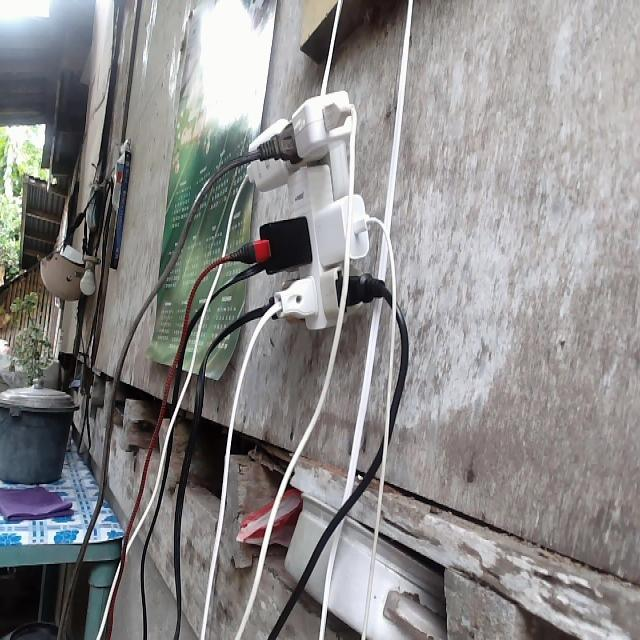-: (243, 86, 380, 334)
